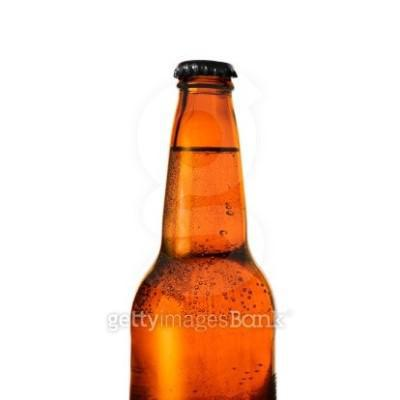beer: (131, 59, 278, 400)
